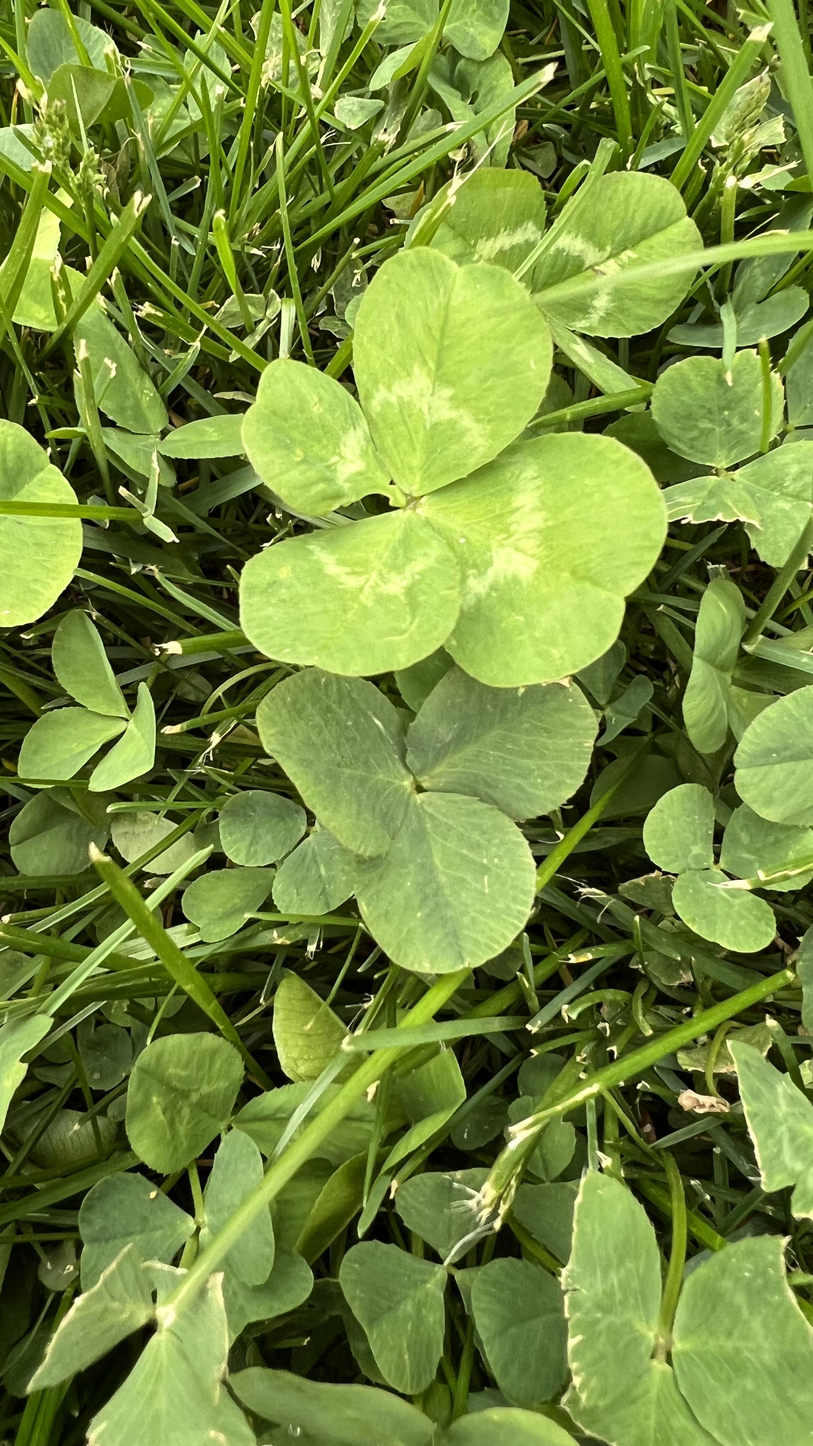4-Leaf-Clovers: (141, 253, 387, 1038)
